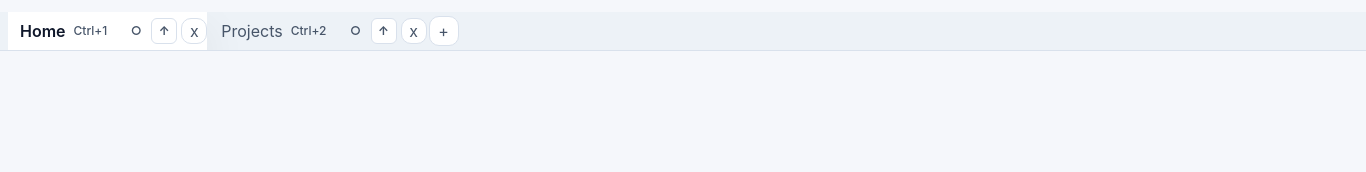
it: WorkspaceTabBar › deletes an inactive workspace, refreshes, and preserves the active workspace
Expected: the button "Projects Ctrl+2" is shown, [209,12,338,50]
Click the button named "Delete Projects".
click(414, 31)  # box [400,18,426,44]
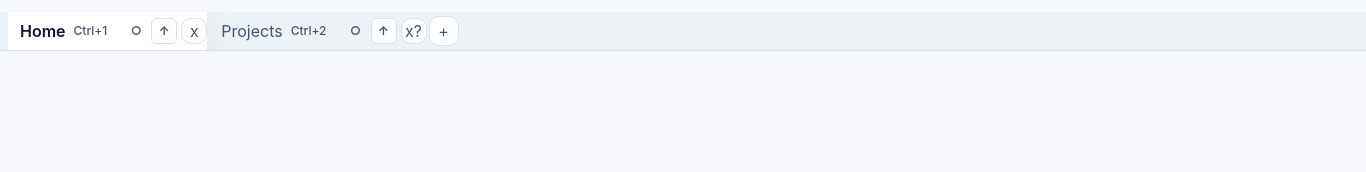
Click the button named "Confirm delete Projects".
click(414, 31)  # box [400,18,426,44]
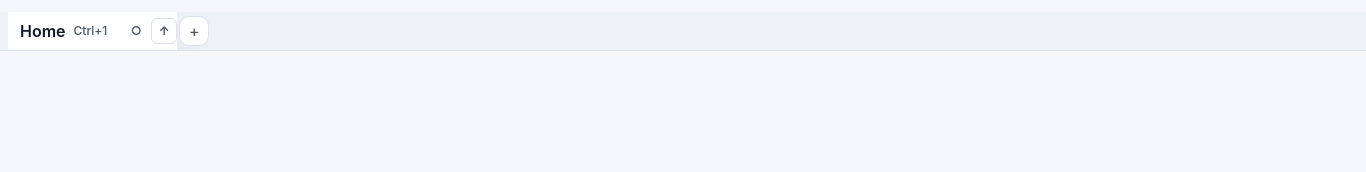
Expected: the button "Projects" is gone
